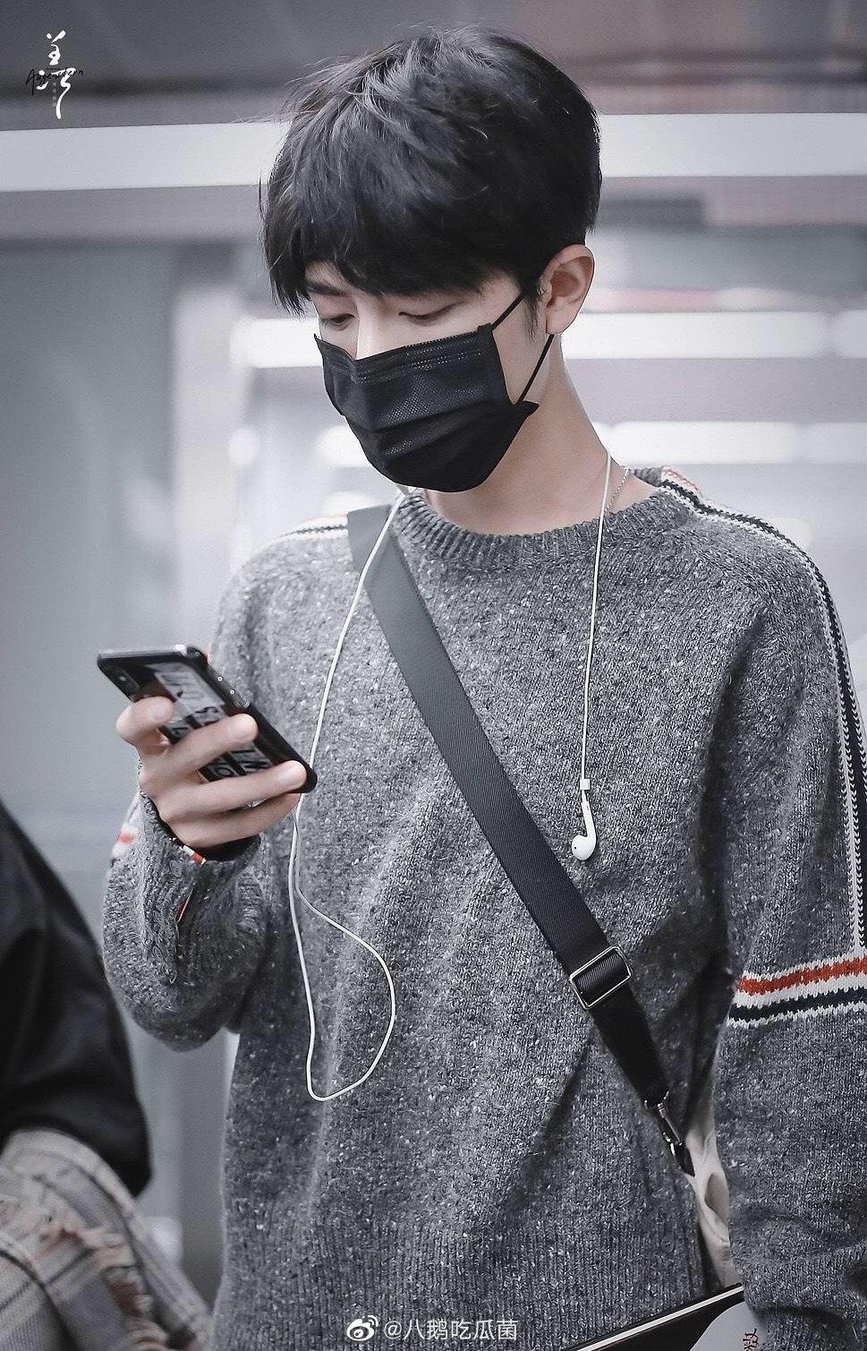OK: (307, 252, 530, 492)
